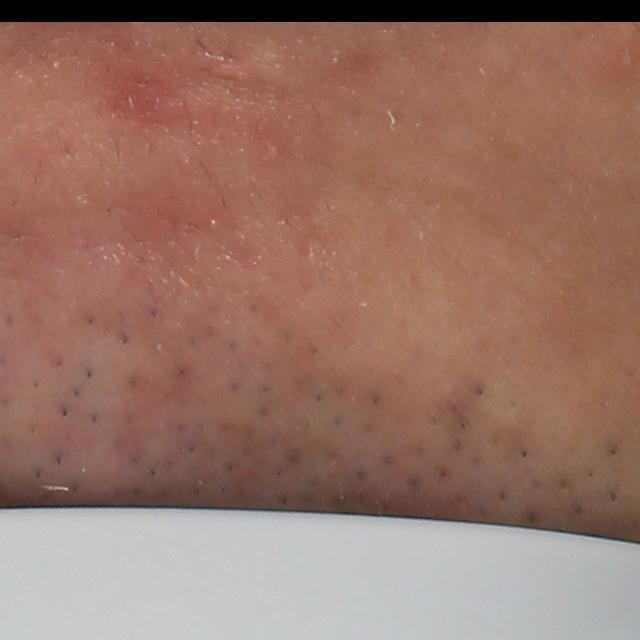hypertrophic_scar: (204, 35, 300, 88)
